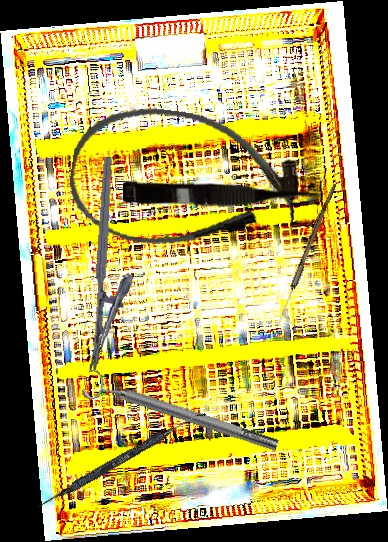Cannula: (62, 97, 307, 264)
Fixation Ring: (80, 365, 282, 463)
Micro Scissor: (122, 181, 324, 211)
Needle Holder: (88, 156, 142, 373)
Spatula Surgical: (35, 405, 207, 514)
Surgical Spoon: (275, 182, 337, 327)
